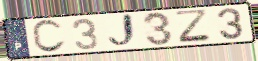3: (141, 10, 174, 47), (216, 6, 245, 40), (72, 17, 100, 51)
C: (29, 18, 67, 55)
J: (106, 12, 139, 50)
Z: (173, 8, 214, 44)
